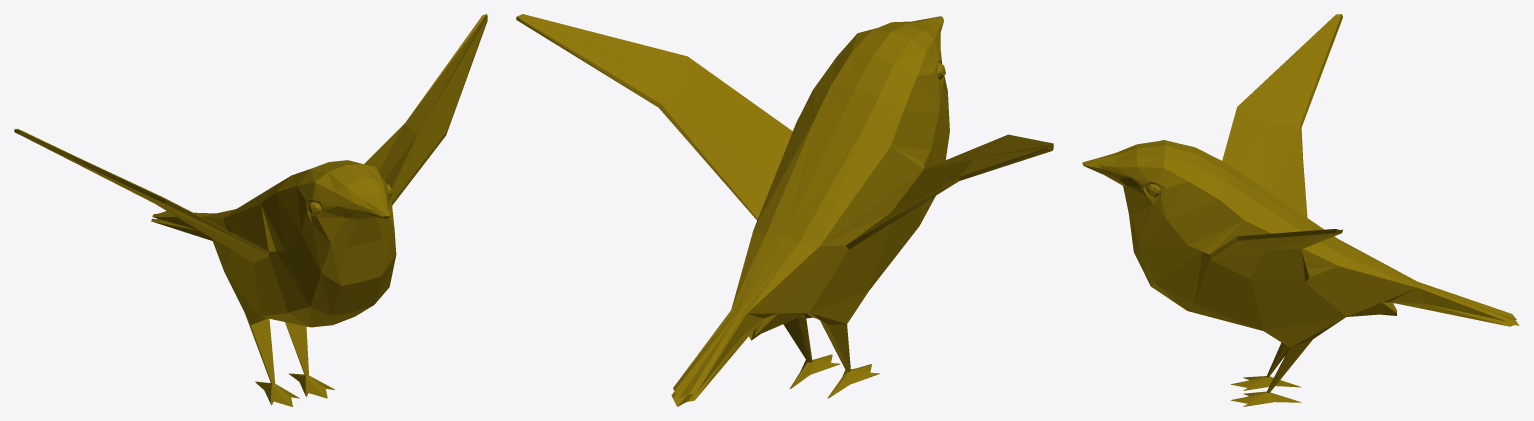
Rendered from bird.glb.
3 views of the same model, side by side, from view 1: azimuth 30°, elevation 25°; view 2: azimuth 150°, elevation 25°; view 3: azimuth 270°, elevation 25° (orthographic). The views are drawn at different scales.
Parts seen in each view (by area): view 1: bird; view 2: bird; view 3: bird.
Boxes of the visible parts, x1,y1,x2,y2 form: bird: (14,14,487,406); bird: (516,14,1053,406); bird: (1082,14,1519,406).
Bounding box in the file's own units: 0.424 × 0.2494 × 0.362.
